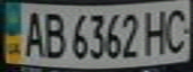2: (118, 8, 145, 59)
3: (87, 10, 109, 61)
6: (66, 10, 90, 61), (103, 10, 127, 61)
A: (18, 7, 48, 58)
B: (39, 8, 69, 60)
C: (163, 3, 193, 54)
H: (139, 6, 172, 56)
